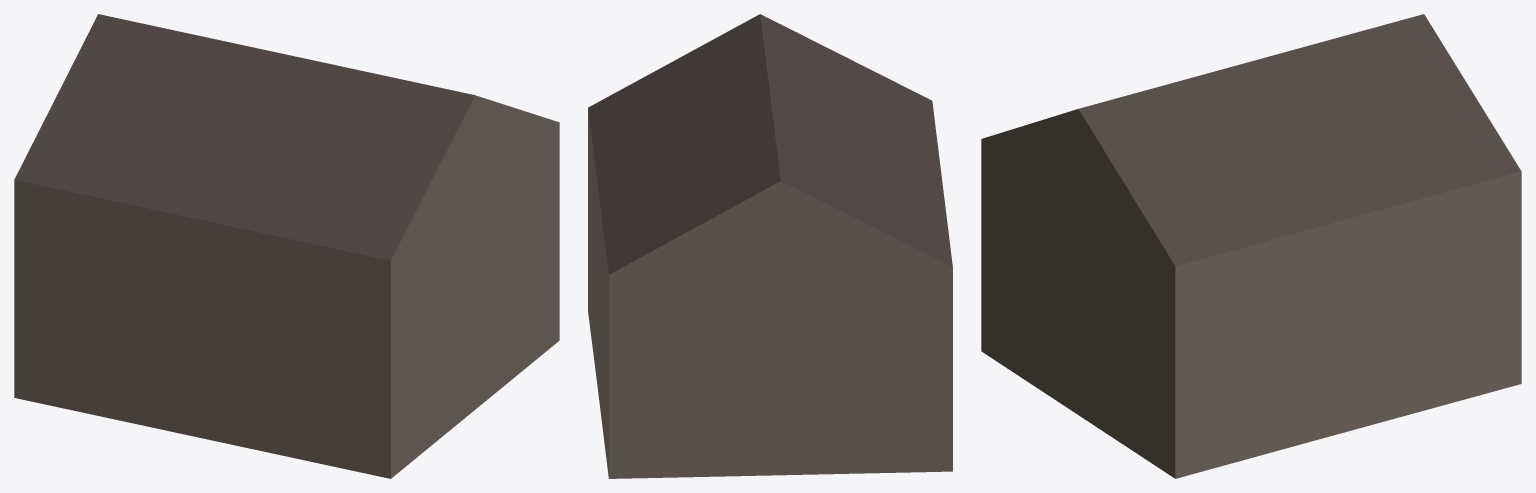
3 renders of one model, left to right at view 1: azimuth 30°, elevation 25°; view 2: azimuth 150°, elevation 25°; view 3: azimuth 270°, elevation 25°, orthographic. The views are drawn at different scales.
Visible parts, largest first — view 1: HP-w1198528169; view 2: HP-w1198528169; view 3: HP-w1198528169.
Boxes of the visible parts, <box> form: HP-w1198528169: <box>14,14,559,478</box>; HP-w1198528169: <box>588,14,952,478</box>; HP-w1198528169: <box>981,14,1521,478</box>.
Bounding box in the file's own units: 13.46 × 8.65 × 13.83.
